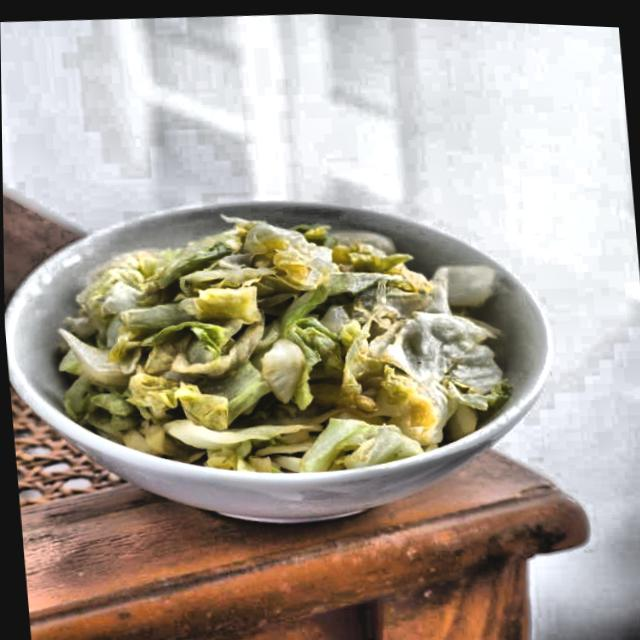Food: (57, 200, 498, 480)
